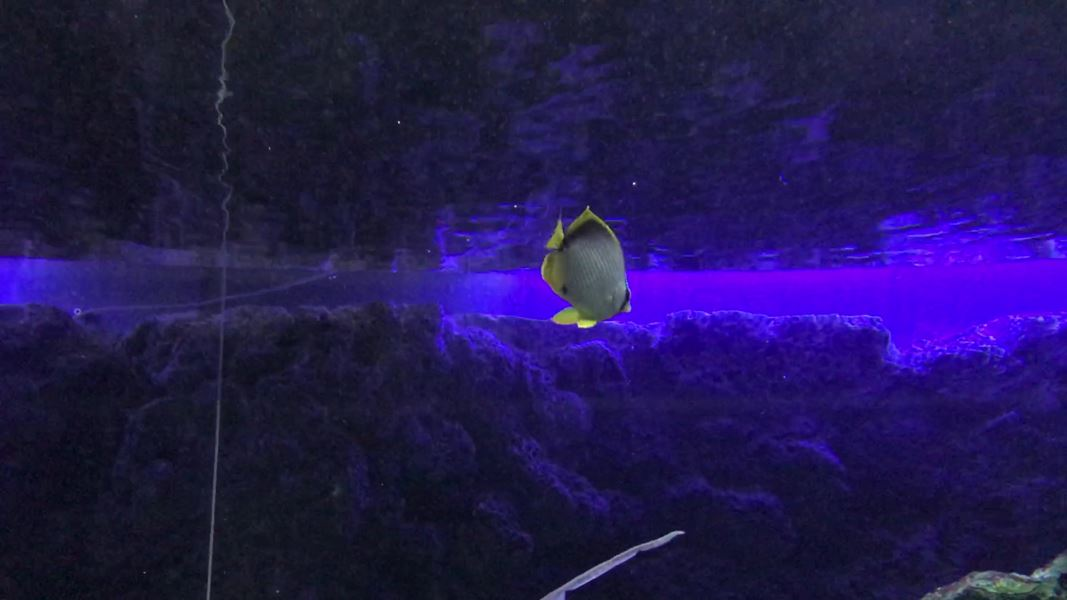Black-backed butterflyfish: (527, 194, 641, 337)
